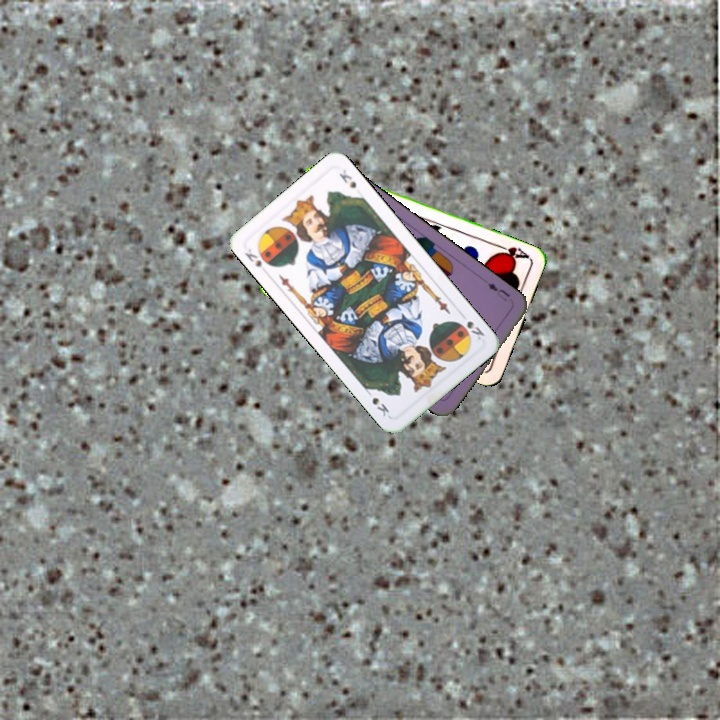EU: (484, 279, 513, 304)
HA: (492, 241, 533, 263)
SK: (456, 308, 487, 343), (241, 245, 264, 270)
